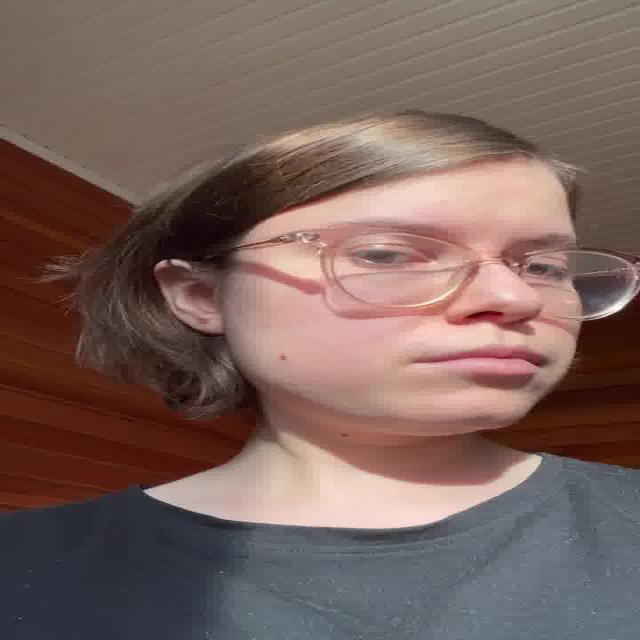earlobe: (150, 258, 224, 334)
